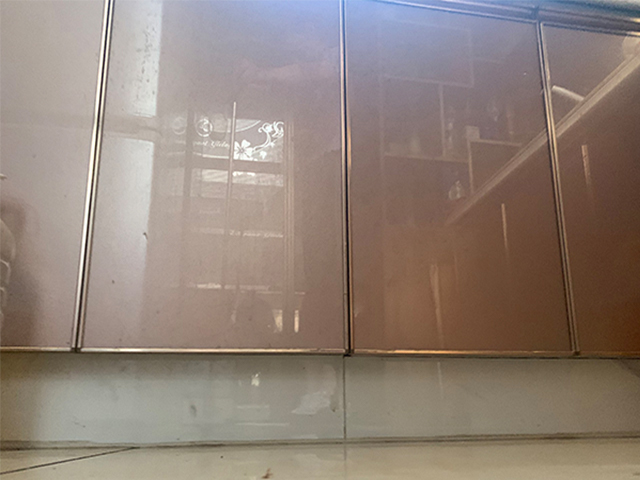cabinet: (1, 1, 640, 442)
